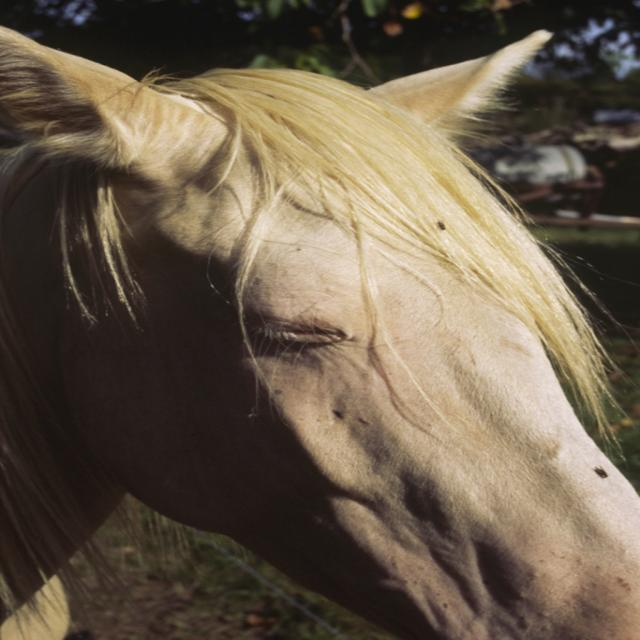Horse: (0, 25, 639, 639)
